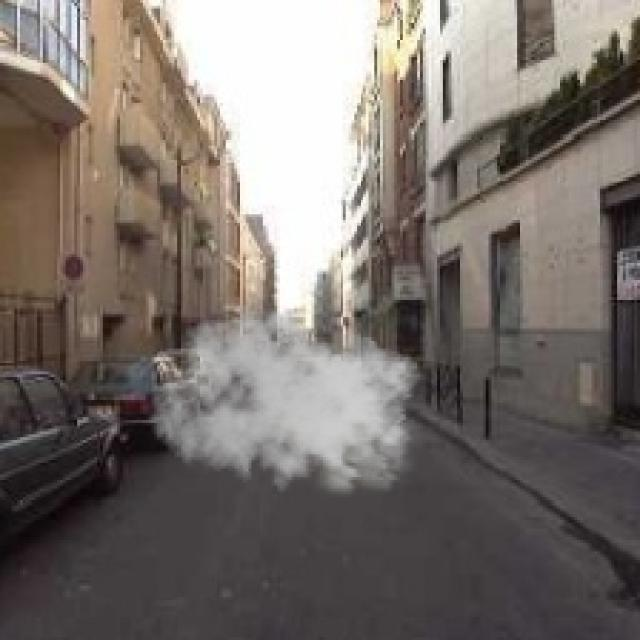Smoke: (148, 303, 428, 506)
